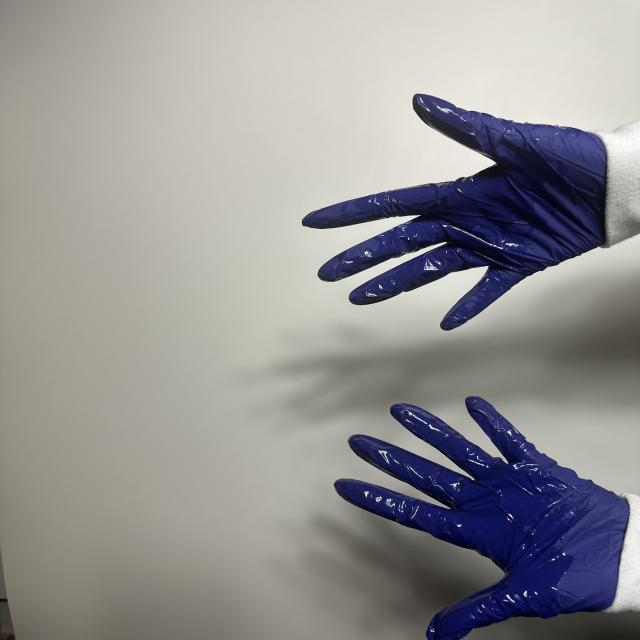gloves_contaminated: (335, 397, 637, 640), (302, 95, 614, 330)
